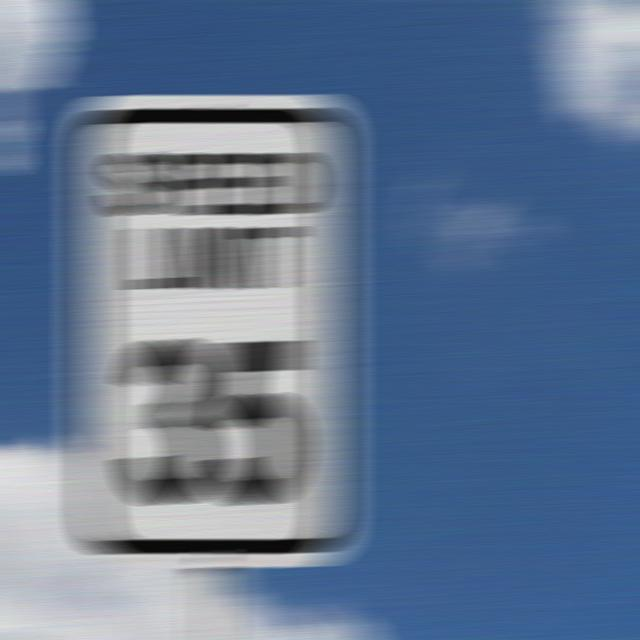speedLimit35: (67, 91, 358, 567)
